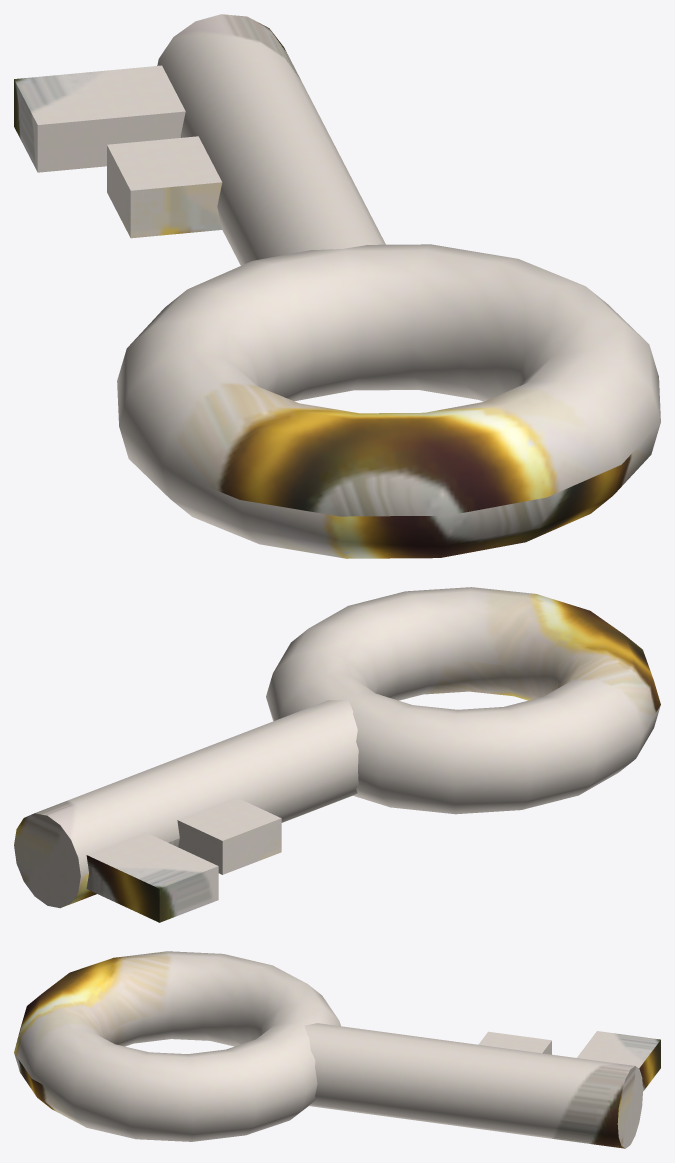
The model's file is key_1.fbx.
3 renders of one model, top to bottom at view 1: azimuth 30°, elevation 25°; view 2: azimuth 150°, elevation 25°; view 3: azimuth 270°, elevation 25°, orthographic. The views are drawn at different scales.
Parts seen in each view (by area): view 1: key_1; view 2: key_1; view 3: key_1.
Boxes of the visible parts, x1,y1,x2,y2 form: key_1: (14, 14, 660, 558); key_1: (14, 587, 660, 922); key_1: (14, 951, 660, 1148).
Size of the model in its own units: 0.1367 by 0.0345 by 0.2532.
